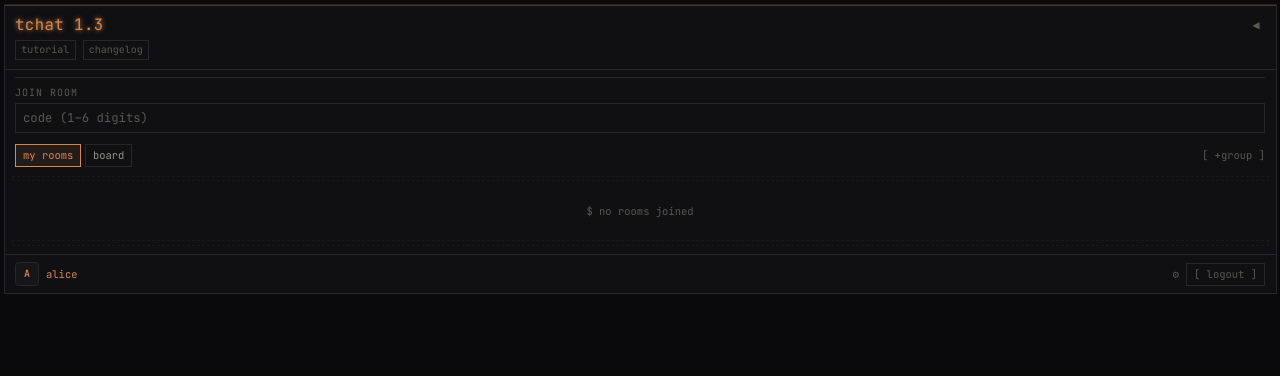
Test case: Board tab drag-and-drop — non-admin › board group headers are not draggable for non-admins
Click the button with test id "tab-board" at (109, 155), box [85,144,132,167]
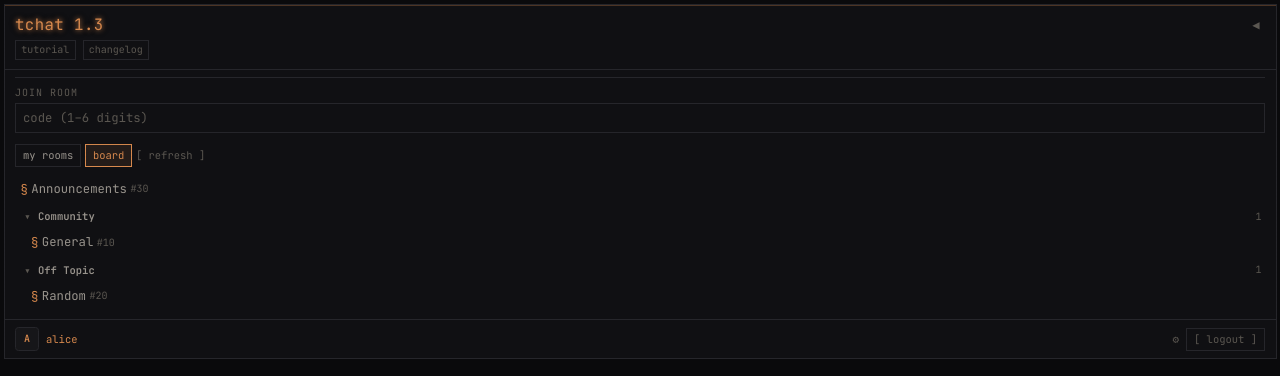
Check: the text "Community" is shown, box [38,209,95,223]
